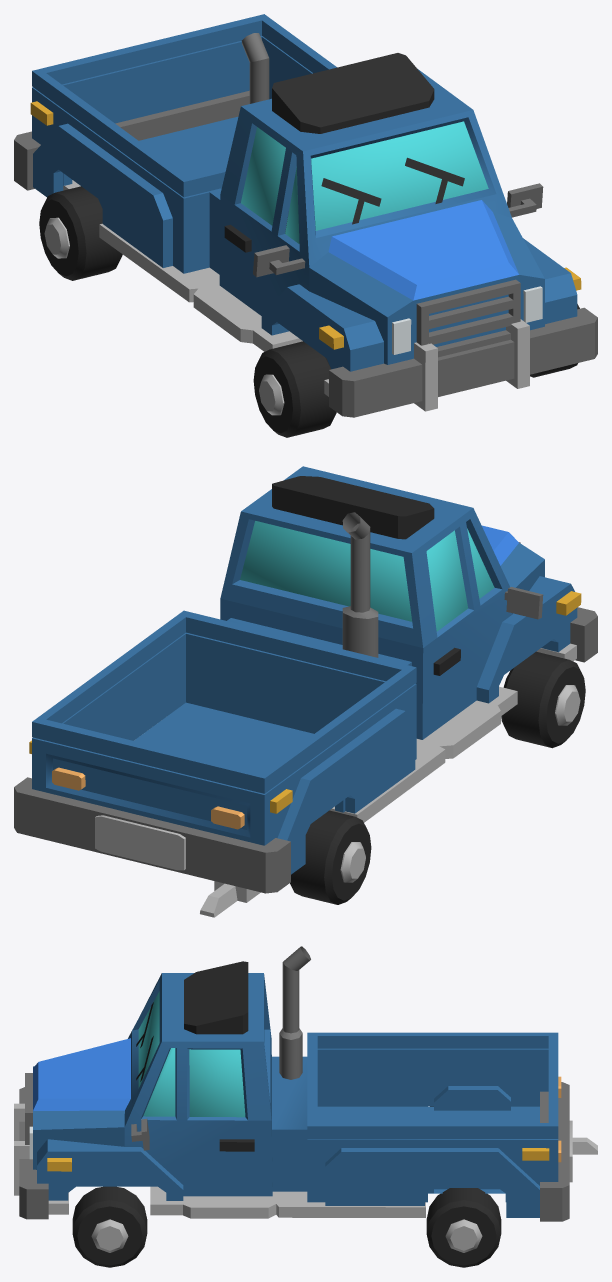
Rendered from PlayerCar_02_Pickup.fbx.
3 renders of one model, top to bottom at view 1: azimuth 30°, elevation 25°; view 2: azimuth 150°, elevation 25°; view 3: azimuth 270°, elevation 25°, orthographic. The views are drawn at different scales.
Visible parts, largest first — view 1: Cabine, Bumpers, Windows, Hood, Wheels, Luk, Side_Part, Radiator, Mirrors, Cleaners, Exhaust, Light_Front (+1 smaller); view 2: Cabine, Windows, Wheels, Bumpers, Luk, Side_Part, Exhaust, Sighn_Back, Light_Back, Exhaust_2, Mirrors, Light_Side (+1 smaller); view 3: Cabine, Wheels, Side_Part, Windows, Hood, Luk, Bumpers, Exhaust, Light_Side, Radiator, Handles.
Part boxes in pixels (x1=…): Cabine: x1=32, y1=14, x2=577, y2=371; Bumpers: x1=14, y1=90, x2=597, y2=417; Windows: x1=241, y1=121, x2=488, y2=243; Hood: x1=328, y1=200, x2=518, y2=300; Wheels: x1=39, y1=186, x2=579, y2=437; Luk: x1=272, y1=53, x2=434, y2=133; Side_Part: x1=99, y1=223, x2=529, y2=411; Radiator: x1=416, y1=279, x2=520, y2=357; Mirrors: x1=253, y1=183, x2=543, y2=277; Cleaners: x1=321, y1=157, x2=464, y2=224; Exhaust: x1=241, y1=33, x2=269, y2=103; Light_Front: x1=392, y1=286, x2=542, y2=354; Cabine: x1=32, y1=466, x2=577, y2=874; Windows: x1=240, y1=521, x2=494, y2=631; Wheels: x1=290, y1=651, x2=585, y2=904; Bumpers: x1=14, y1=607, x2=597, y2=893; Luk: x1=272, y1=476, x2=434, y2=539; Side_Part: x1=329, y1=643, x2=576, y2=822; Exhaust: x1=342, y1=512, x2=378, y2=657; Sighn_Back: x1=95, y1=815, x2=185, y2=870; Light_Back: x1=52, y1=767, x2=244, y2=829; Exhaust_2: x1=200, y1=881, x2=260, y2=917; Mirrors: x1=504, y1=587, x2=543, y2=619; Light_Side: x1=29, y1=591, x2=581, y2=813; Cabine: x1=33, y1=973, x2=558, y2=1217; Wheels: x1=72, y1=1106, x2=501, y2=1267; Side_Part: x1=14, y1=1103, x2=425, y2=1218; Windows: x1=138, y1=991, x2=245, y2=1117; Hood: x1=33, y1=1038, x2=130, y2=1110; Luk: x1=184, y1=961, x2=248, y2=1034; Bumpers: x1=19, y1=1082, x2=569, y2=1221; Exhaust: x1=279, y1=946, x2=310, y2=1079; Light_Side: x1=47, y1=1148, x2=549, y2=1171; Radiator: x1=25, y1=1073, x2=32, y2=1144; Handles: x1=219, y1=1139, x2=254, y2=1151.
Bounding box in the file's own units: 252 × 233 × 507.
